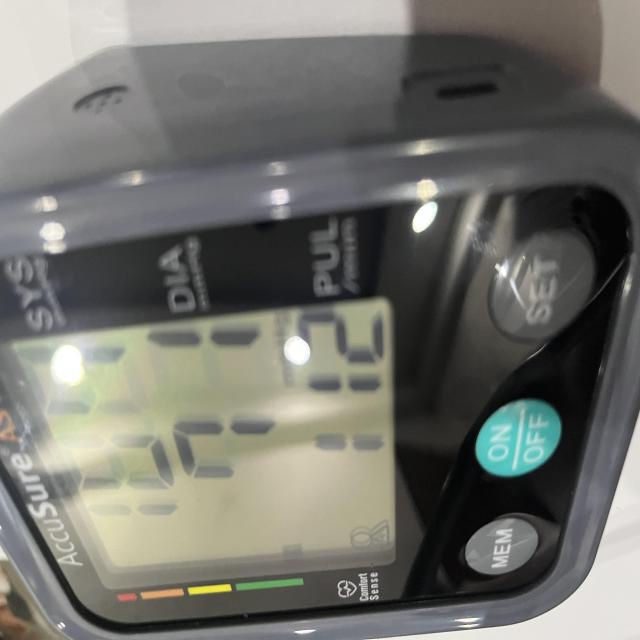bp: (0, 31, 640, 640)
